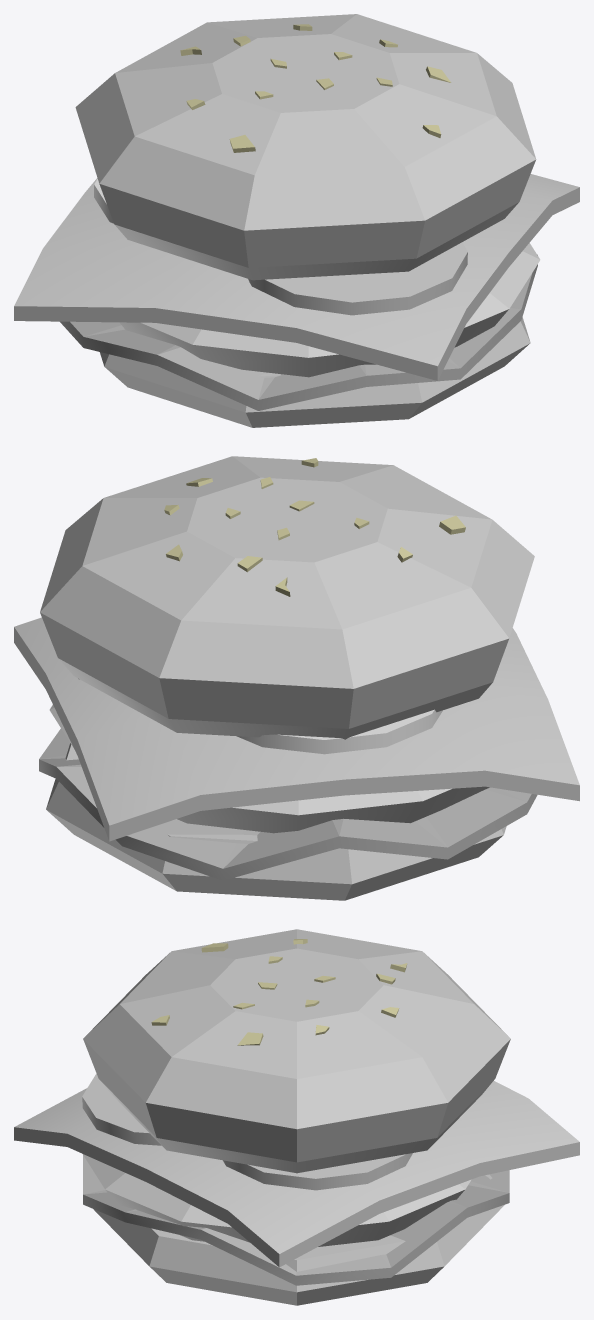
The model's file is Burger.FBX.
3 renders of one model, top to bottom at view 1: azimuth 30°, elevation 25°; view 2: azimuth 150°, elevation 25°; view 3: azimuth 270°, elevation 25°, orthographic. The views are drawn at different scales.
Parts seen in each view (by area): view 1: BurgerTopBun, Cheese, Lettuce, BurgerBottomBun, Patty, Tomato1; view 2: BurgerTopBun, Cheese, Lettuce, BurgerBottomBun, Patty, Tomato3; view 3: BurgerTopBun, Cheese, BurgerBottomBun, Lettuce, Patty, tomato2, Tomato1.
Part boxes in pixels (box(x1,y1,x2,y2)): BurgerTopBun: box(75, 14, 536, 280); Cheese: box(14, 174, 579, 380); Lettuce: box(60, 254, 537, 410); BurgerBottomBun: box(100, 317, 530, 427); Patty: box(119, 243, 540, 377); Tomato1: box(248, 242, 467, 315); BurgerTopBun: box(40, 456, 534, 739); Cheese: box(14, 617, 579, 841); Lettuce: box(39, 728, 537, 880); BurgerBottomBun: box(46, 743, 506, 900); Patty: box(49, 705, 489, 833); Tomato3: box(237, 709, 442, 754); BurgerTopBun: box(83, 929, 510, 1173); Cheese: box(14, 1081, 579, 1267); BurgerBottomBun: box(93, 1174, 504, 1305); Lettuce: box(83, 1155, 509, 1285); Patty: box(83, 1154, 471, 1246); tomato2: box(223, 1153, 412, 1190); Tomato1: box(82, 1074, 161, 1145).
Bounding box in the file's own units: 56.46 × 29.35 × 56.46.
